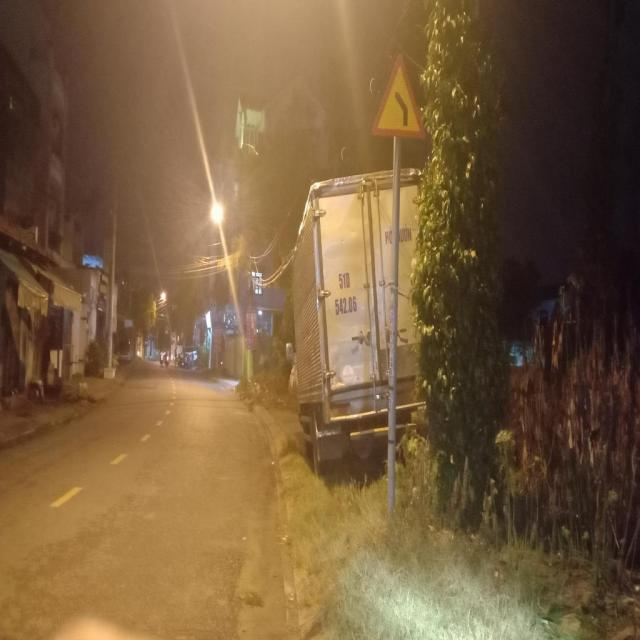cho_ngoat_nguy_hiem_ben_trai: (370, 49, 427, 139)
